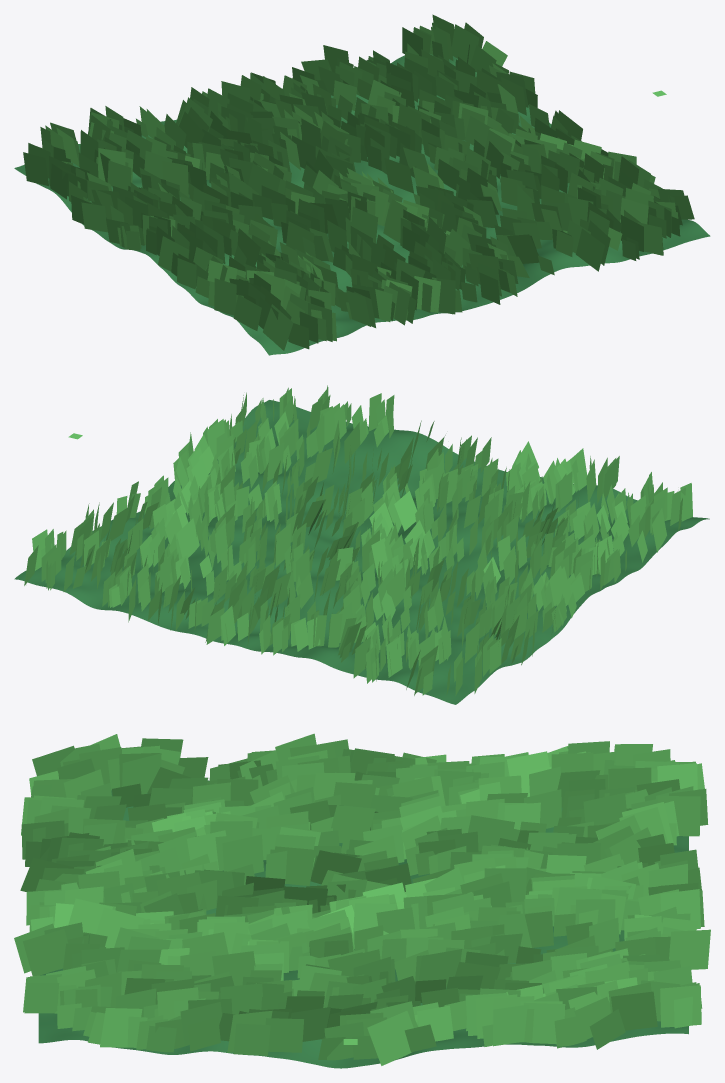
Rendered from bbb.fbx.
3 views of the same model, one above another, from view 1: azimuth 30°, elevation 25°; view 2: azimuth 150°, elevation 25°; view 3: azimuth 270°, elevation 25° (orthographic). The views are drawn at different scales.
Parts seen in each view (by area): view 1: 平面, 平面|caol;izi |Dupli|44, 平面|caol;izi |Dupli|725, 平面|caol;izi |Dupli|10, 平面|caol;izi |Dupli|967, 平面|caol;izi |Dupli|620, 平面|caol;izi |Dupli|17, 平面|caol;izi |Dupli|9, 平面|caol;izi |Dupli|642, 平面|caol;izi |Dupli|227, 平面|caol;izi |Dupli|13, 平面|caol;izi |Dupli|356 (+6 smaller); view 2: 平面, 平面|caol;izi |Dupli|771, 平面|caol;izi |Dupli|491, 平面|caol;izi |Dupli|188; view 3: 平面, 平面|caol;izi |Dupli|994, 平面|caol;izi |Dupli|745, 平面|caol;izi |Dupli|5, 平面|caol;izi |Dupli|989, 平面|caol;izi |Dupli|408, 平面|caol;izi |Dupli|997, 平面|caol;izi |Dupli|972, 平面|caol;izi |Dupli|980, 平面|caol;izi |Dupli|991, 平面|caol;izi |Dupli|988, 平面|caol;izi |Dupli|269 (+111 smaller).
Part boxes in pixels (left/top/right/bottom): 平面: left=14, top=54, right=710, bottom=355; 平面|caol;izi |Dupli|44: left=263, top=304, right=293, bottom=350; 平面|caol;izi |Dupli|725: left=576, top=228, right=604, bottom=271; 平面|caol;izi |Dupli|10: left=214, top=278, right=236, bottom=315; 平面|caol;izi |Dupli|967: left=451, top=24, right=479, bottom=65; 平面|caol;izi |Dupli|620: left=384, top=157, right=413, bottom=193; 平面|caol;izi |Dupli|17: left=23, top=152, right=48, bottom=186; 平面|caol;izi |Dupli|9: left=233, top=294, right=261, bottom=330; 平面|caol;izi |Dupli|642: left=507, top=234, right=539, bottom=263; 平面|caol;izi |Dupli|227: left=162, top=160, right=188, bottom=197; 平面|caol;izi |Dupli|13: left=81, top=202, right=107, bottom=232; 平面|caol;izi |Dupli|356: left=248, top=163, right=280, bottom=195; 平面: left=14, top=400, right=709, bottom=704; 平面|caol;izi |Dupli|771: left=177, top=518, right=199, bottom=557; 平面|caol;izi |Dupli|491: left=394, top=491, right=417, bottom=531; 平面|caol;izi |Dupli|188: left=386, top=637, right=402, bottom=677; 平面: left=38, top=780, right=688, bottom=1068; 平面|caol;izi |Dupli|994: left=367, top=1011, right=413, bottom=1065; 平面|caol;izi |Dupli|745: left=23, top=929, right=68, bottom=975; 平面|caol;izi |Dupli|5: left=669, top=929, right=710, bottom=969; 平面|caol;izi |Dupli|989: left=611, top=991, right=657, bottom=1030; 平面|caol;izi |Dupli|408: left=222, top=834, right=263, bottom=873; 平面|caol;izi |Dupli|997: left=493, top=1004, right=529, bottom=1046; 平面|caol;izi |Dupli|972: left=265, top=1018, right=303, bottom=1052; 平面|caol;izi |Dupli|980: left=660, top=985, right=701, bottom=1027; 平面|caol;izi |Dupli|991: left=100, top=1008, right=142, bottom=1047; 平面|caol;izi |Dupli|988: left=523, top=1002, right=565, bottom=1044; 平面|caol;izi |Dupli|269: left=331, top=805, right=375, bottom=842.
Size of the model in its own units: 11097 by 1220 by 10035.
